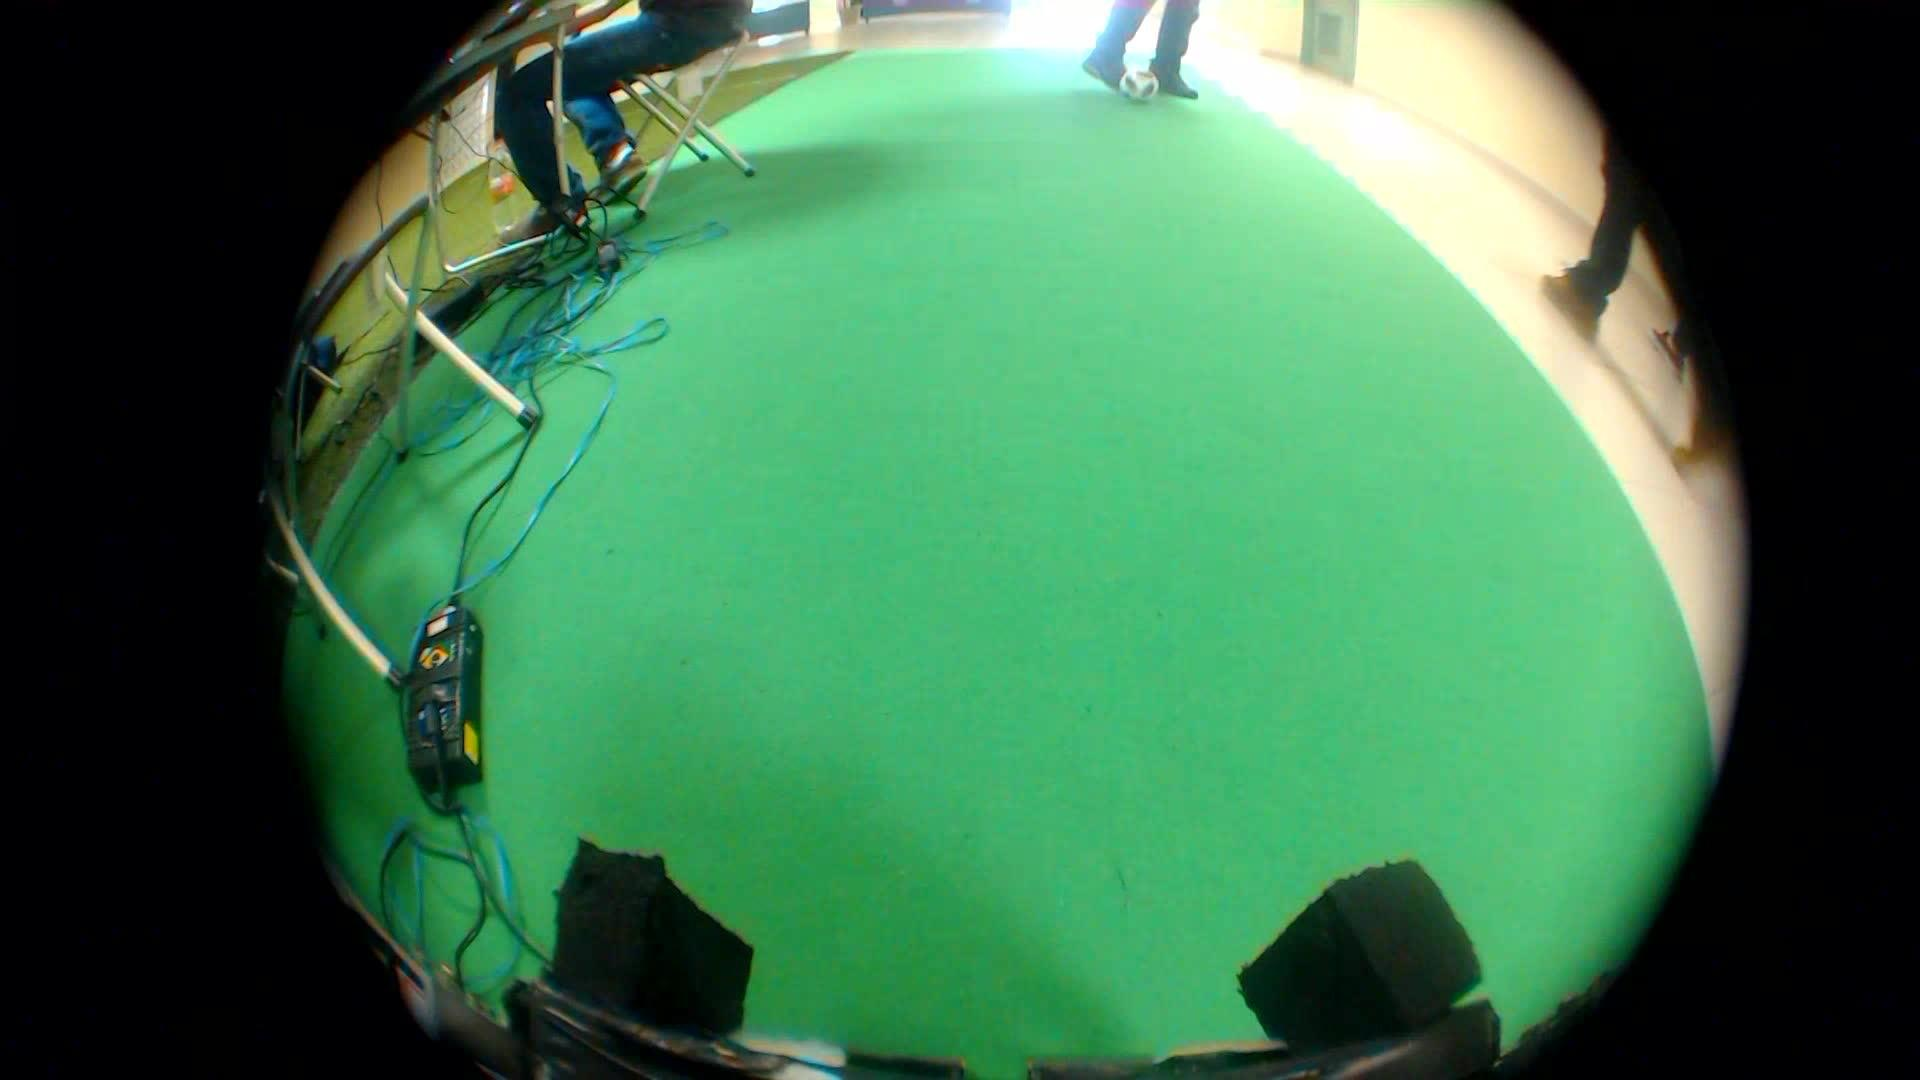ball: (1114, 59, 1160, 109)
